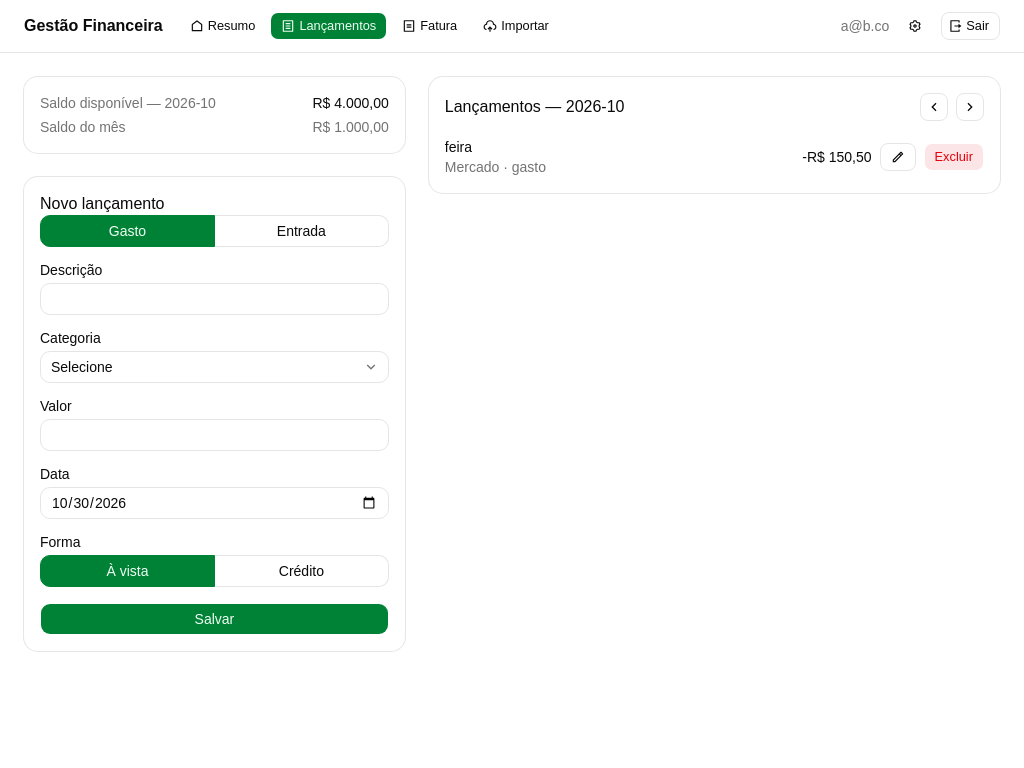
Test: EntryScreen › a edição › erro do servidor mantém a edição aberta com o que foi digitado
The width and height of the screenshot is (1024, 768).
Click the button named "Editar feira". click: (898,157)
box: [880,143,916,171]
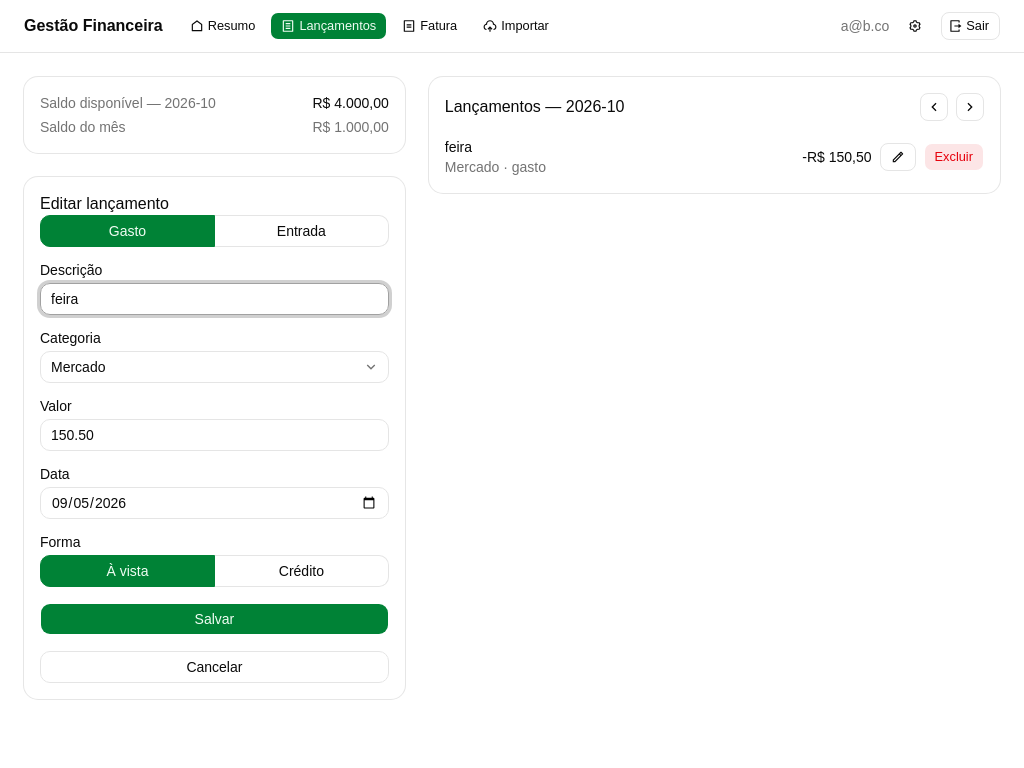
Select "Lazer" in the dropdown labelled "Categoria". click: (214,367)
box: [40,351,389,383]
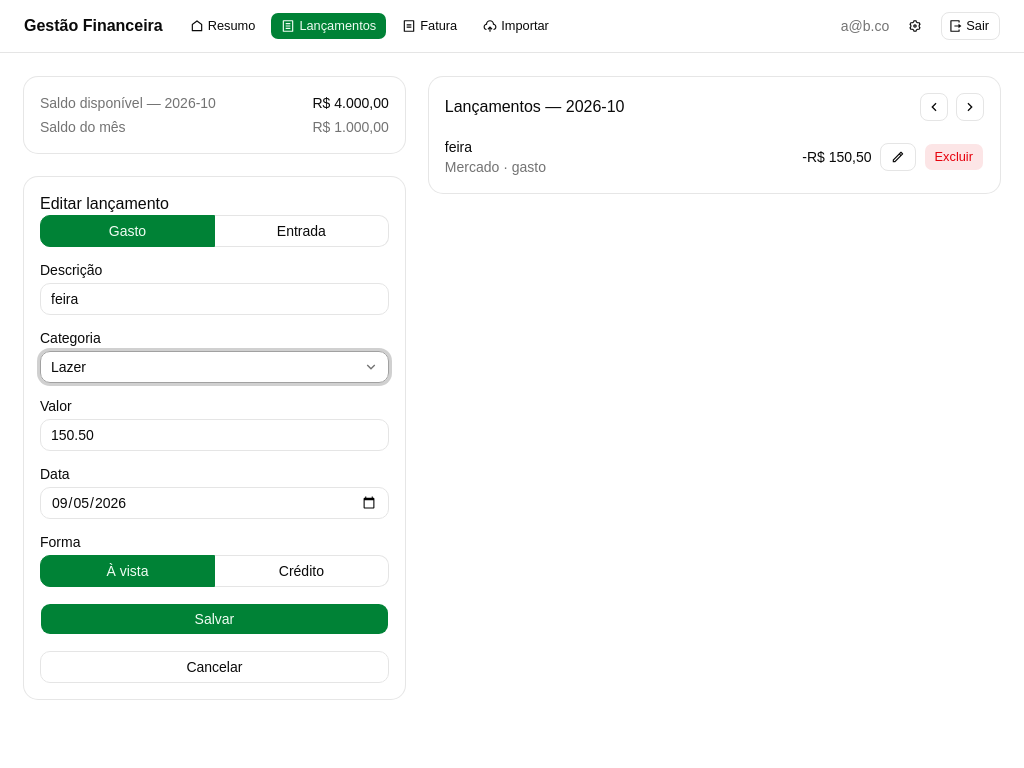
Click the button "Salvar". click: (214,619)
box: [40,603,389,635]
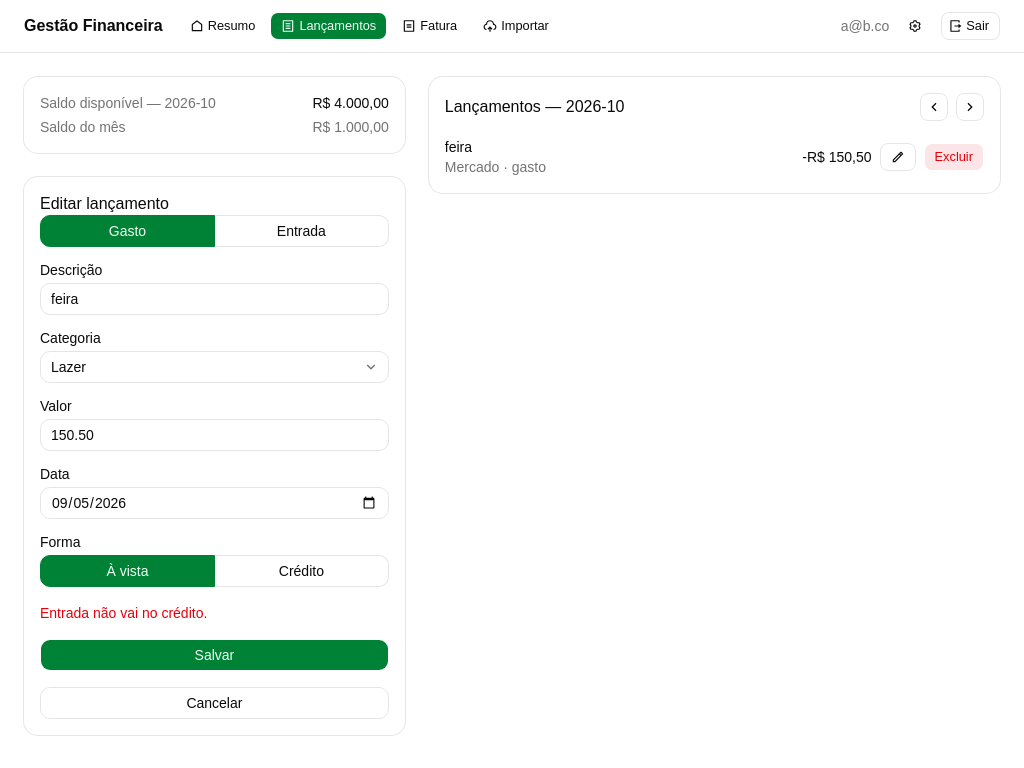
Now the text "Editar lançamento" is shown, box [40,195,169,212]
Now the text "Entrada não vai no crédito." is shown, box [40,605,207,621]
